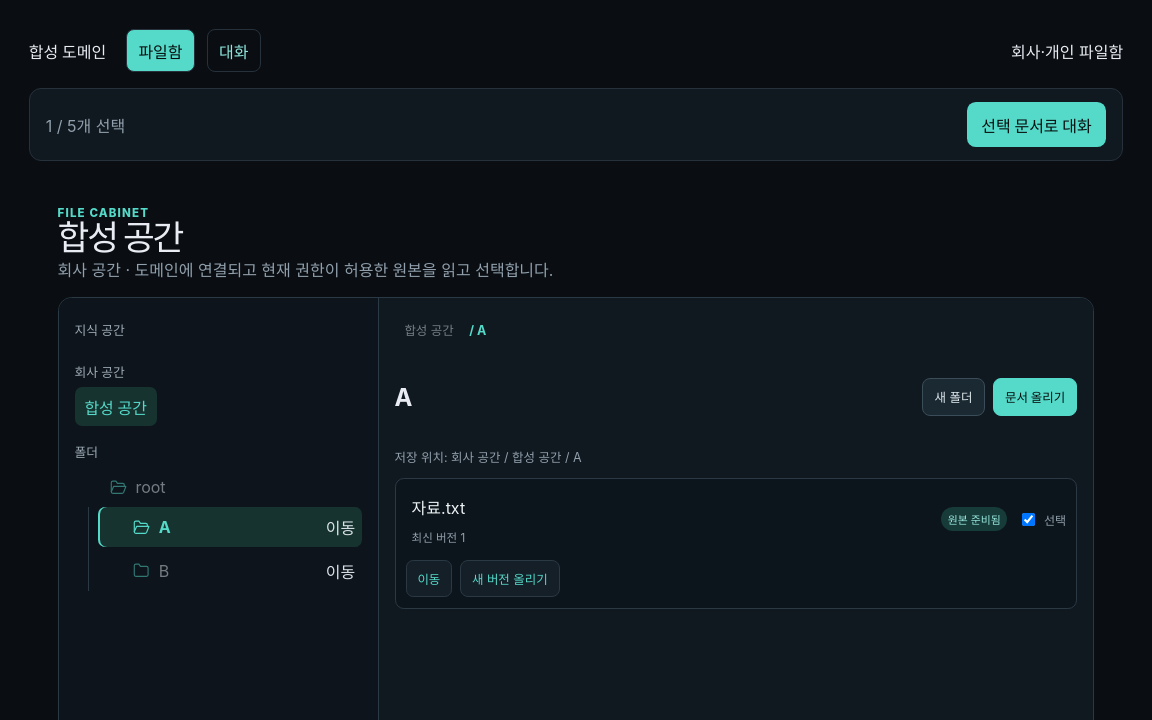
Test: invalidates parent selection when a POST response is lost instead of assuming no move
Click the button with aria-label "자료.txt 이동": (429, 579) [406,560,452,598]
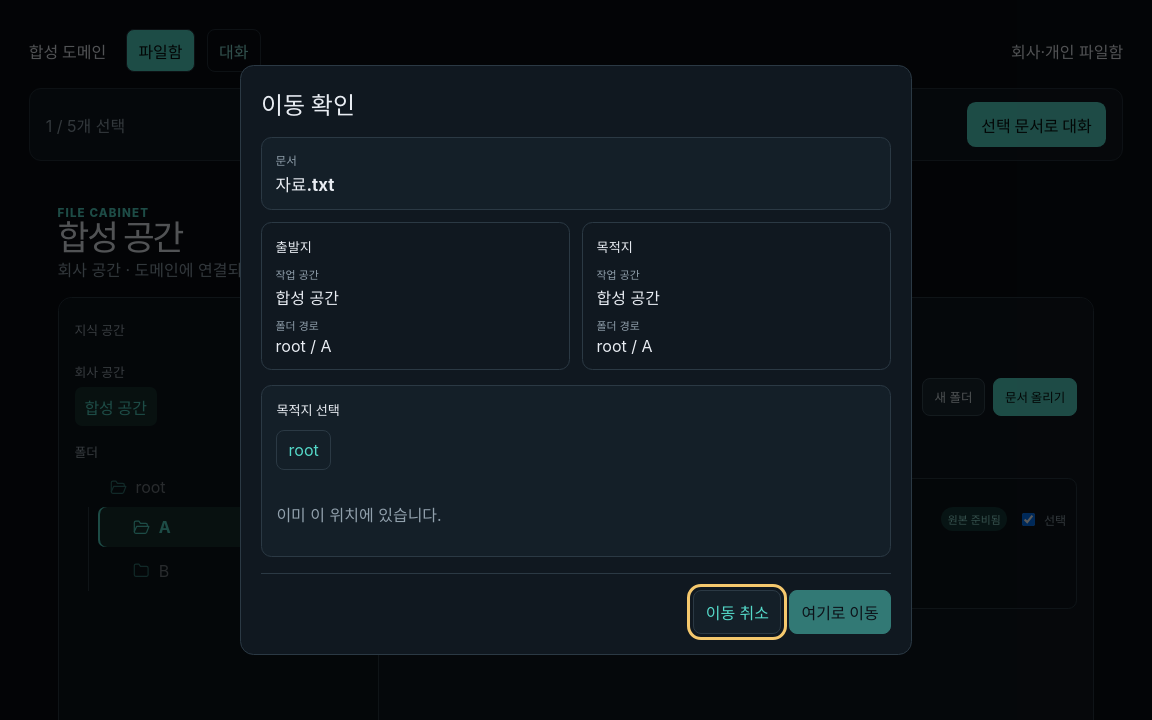
Check: the button "root" is enabled
Click the button "root": (304, 450) [276,430,331,470]
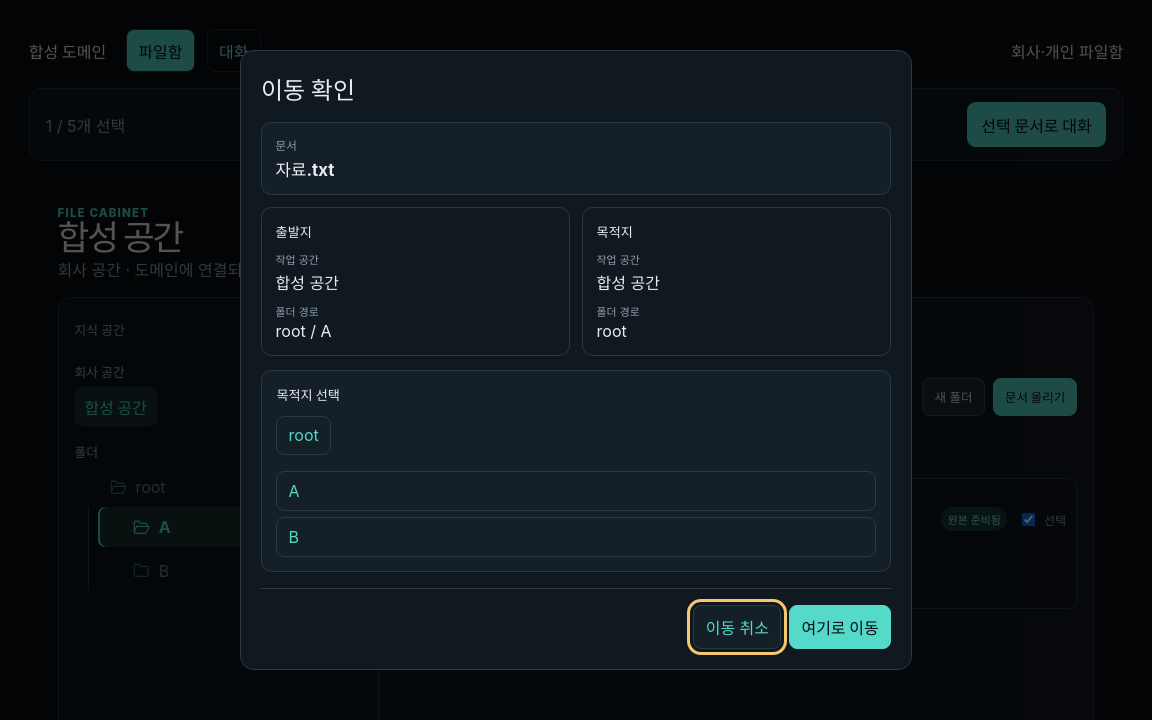
Click the button named "B 목적지 열기": (294, 537) [276,517,876,557]
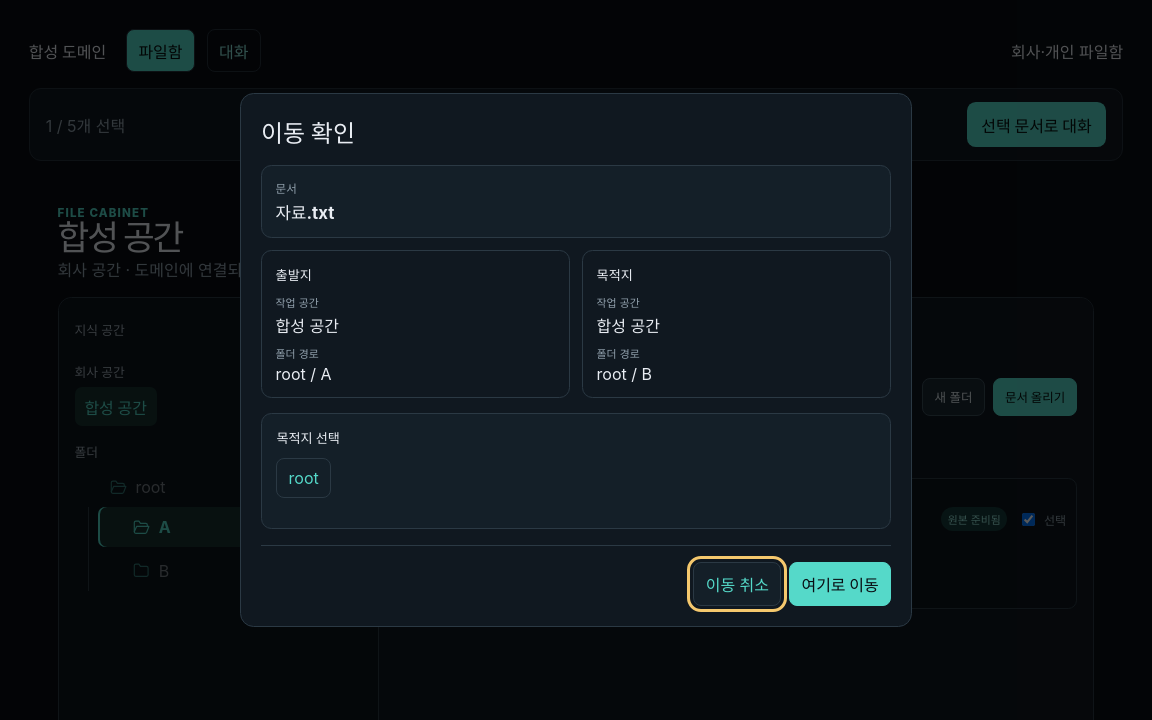
Check: the button "여기로 이동" is enabled
Click the button "여기로 이동": (840, 584) [789,562,891,606]
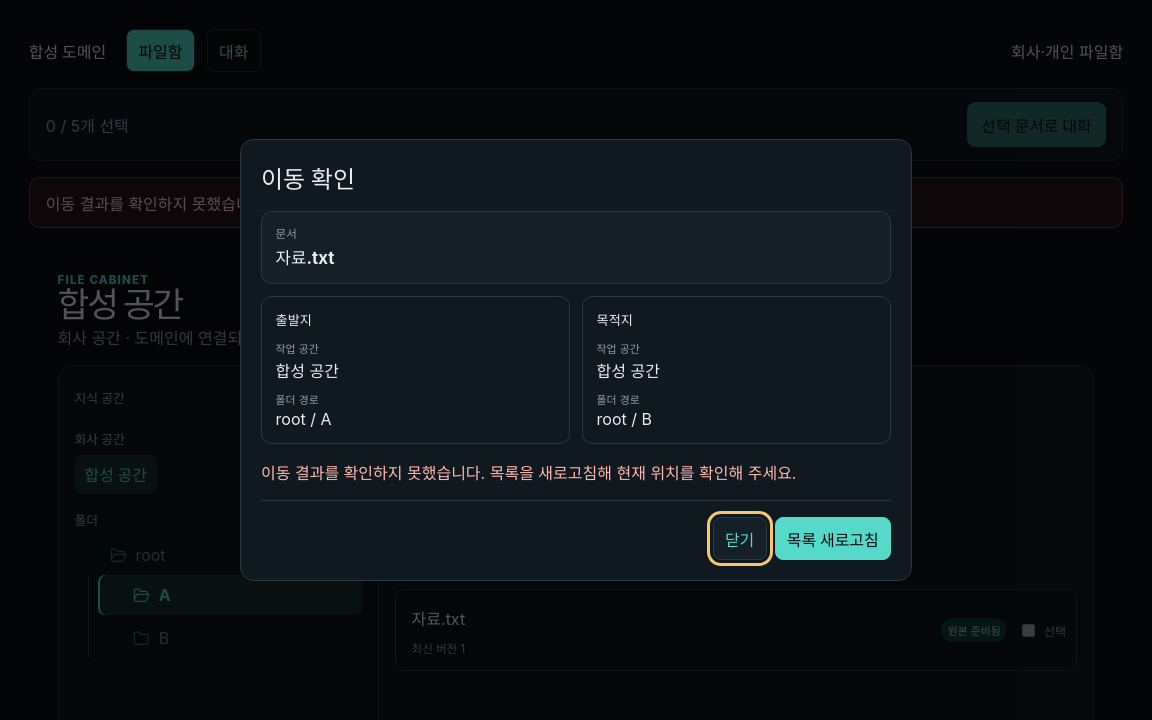
Check: the button "선택 문서로 대화" is disabled, box [967,102,1106,147]
Check: the button "여기로 이동" is gone
